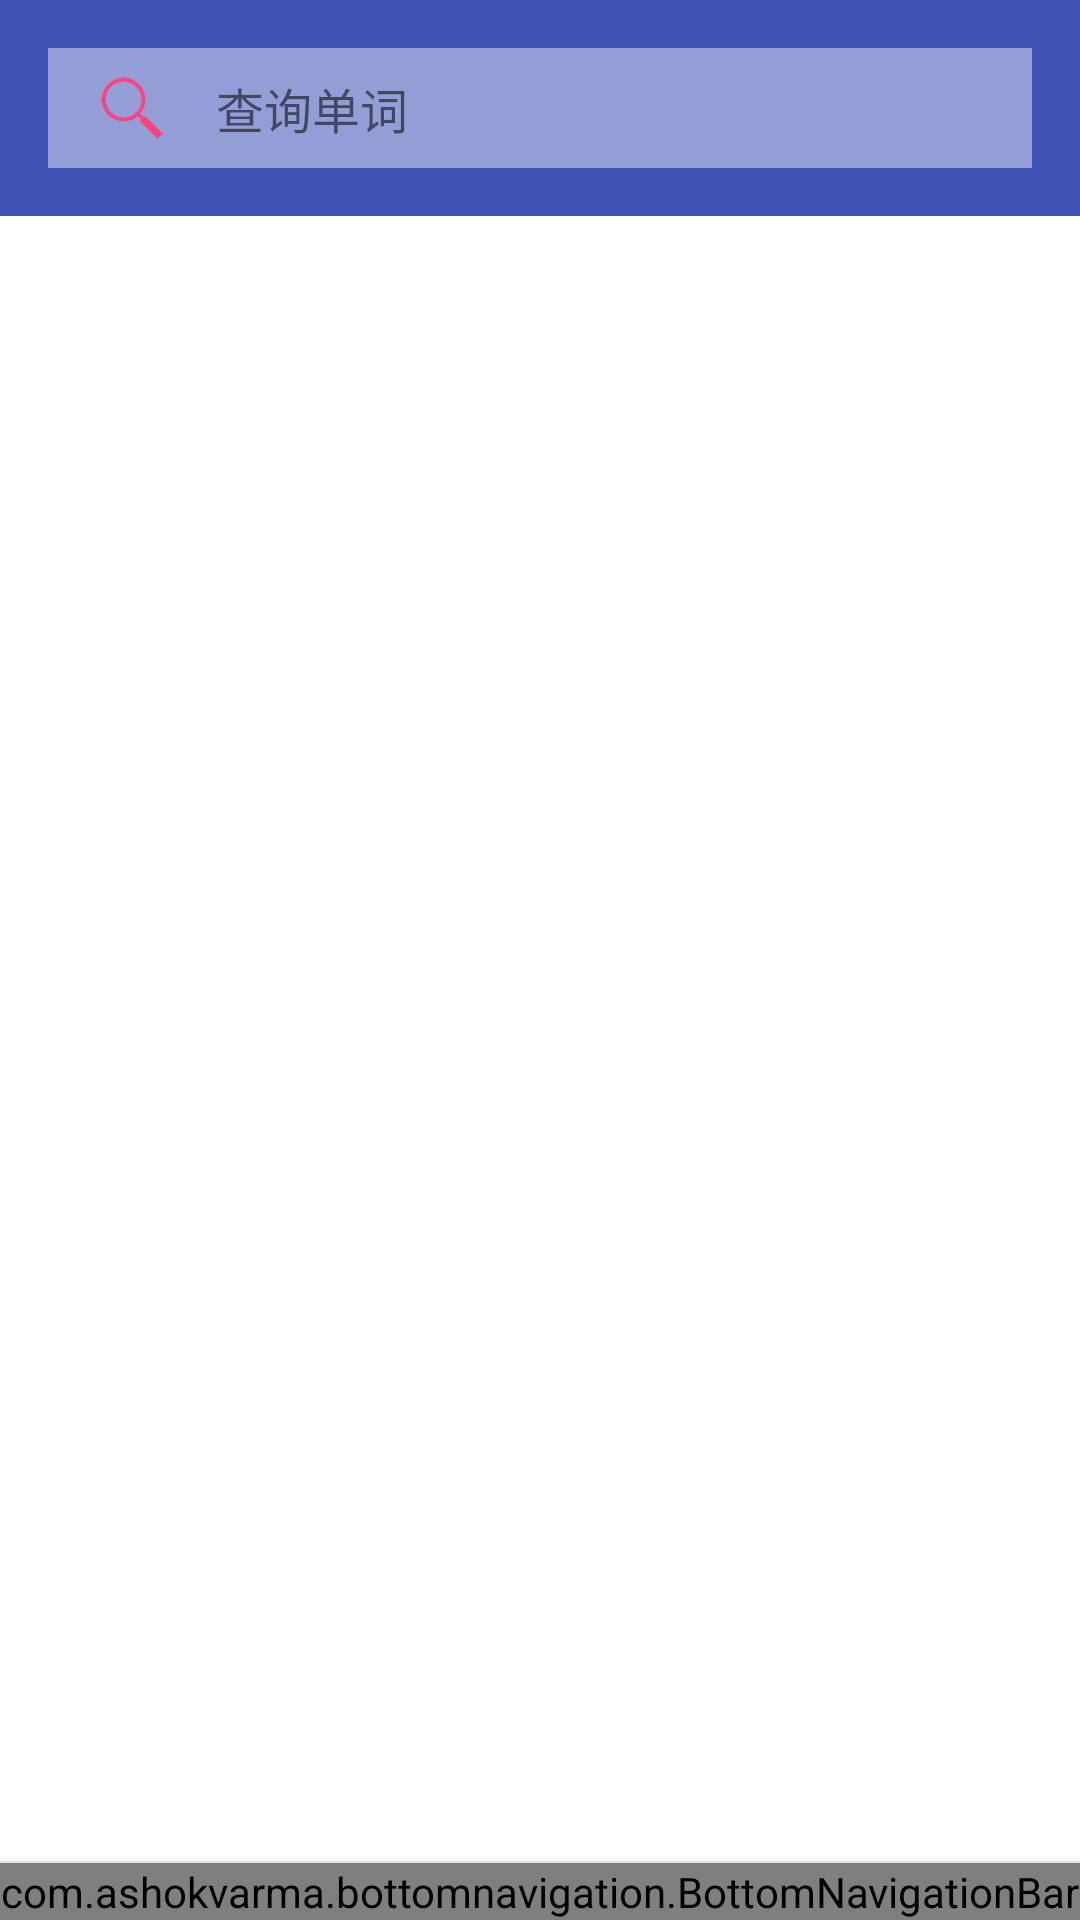

Icon bounding boxes for this 1080w x 1920h phone screenshot, format (x1, y1, x2, y2):
search: (101, 77, 163, 139)
